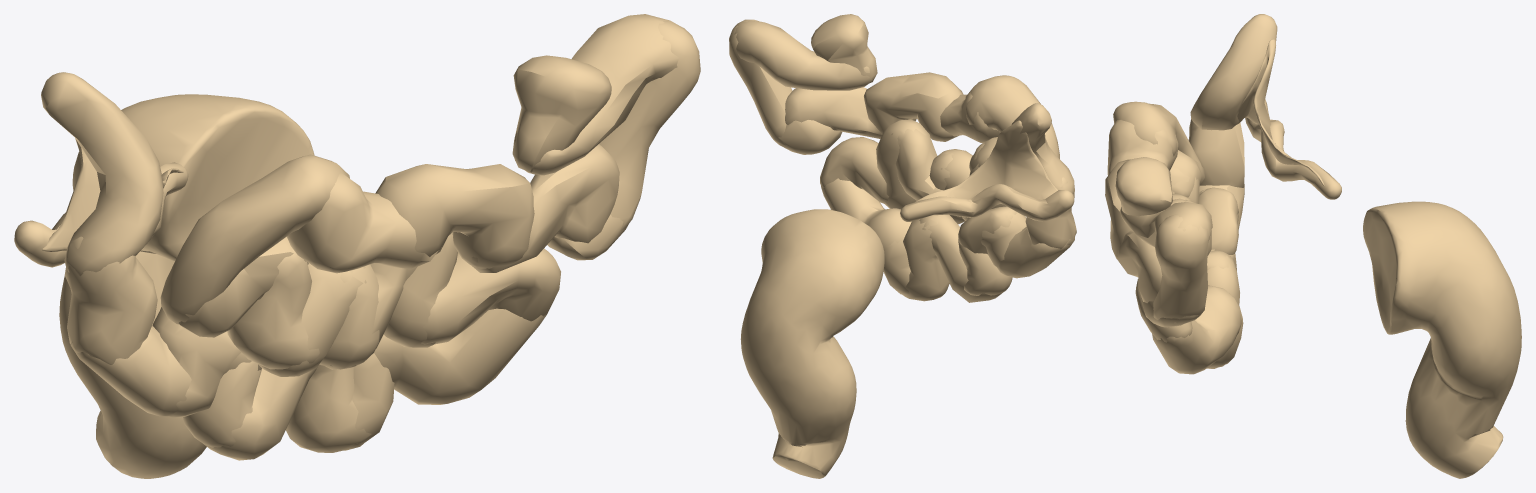
File: digestif-bassin.hi.glb
The picture shows the model from 3 angles, left to right: view 1: azimuth 30°, elevation 25°; view 2: azimuth 150°, elevation 25°; view 3: azimuth 270°, elevation 25°; orthographic projection. The views are drawn at different scales.
Visible parts, largest first — view 1: FJ2571, FJ2599, FJ2580, FJ2578, FJ2589, FJ2579, FJ2605, FJ2604, FJ2598, FJ2588, FJ2577, FJ2575 (+15 smaller); view 2: FJ2571, FJ2605, FJ2578, FJ3397, FJ2565, FJ2577, FJ2580, FJ2604, FJ2588, FJ2589, FJ2575, FJ2591 (+15 smaller); view 3: FJ2571, FJ2599, FJ2575, FJ2589, FJ2604, FJ2598, FJ2565, FJ2580, FJ2579, FJ3397, FJ2577, FJ2594 (+6 smaller).
Part boxes in pixels (bbox=[...]): FJ2571: bbox=[59, 94, 314, 478]; FJ2599: bbox=[41, 72, 163, 276]; FJ2580: bbox=[160, 154, 349, 324]; FJ2578: bbox=[375, 164, 534, 268]; FJ2589: bbox=[374, 308, 547, 404]; FJ2579: bbox=[287, 173, 438, 273]; FJ2605: bbox=[514, 14, 682, 175]; FJ2604: bbox=[512, 55, 611, 172]; FJ2598: bbox=[64, 236, 157, 364]; FJ2588: bbox=[421, 248, 560, 344]; FJ2577: bbox=[471, 144, 619, 272]; FJ2575: bbox=[599, 21, 700, 230]; FJ2571: bbox=[740, 209, 884, 478]; FJ2605: bbox=[734, 20, 872, 90]; FJ2578: bbox=[864, 72, 963, 141]; FJ3397: bbox=[915, 120, 1057, 201]; FJ2565: bbox=[900, 184, 1074, 221]; FJ2577: bbox=[785, 87, 881, 138]; FJ2580: bbox=[965, 75, 1059, 158]; FJ2604: bbox=[811, 14, 877, 83]; FJ2588: bbox=[820, 137, 888, 203]; FJ2589: bbox=[821, 178, 907, 245]; FJ2575: bbox=[729, 19, 792, 145]; FJ2591: bbox=[902, 214, 951, 301]; FJ2571: bbox=[1363, 201, 1521, 478]; FJ2599: bbox=[1190, 14, 1277, 130]; FJ2575: bbox=[1153, 214, 1208, 327]; FJ2589: bbox=[1152, 285, 1241, 374]; FJ2604: bbox=[1115, 157, 1172, 216]; FJ2598: bbox=[1188, 119, 1244, 187]; FJ2565: bbox=[1245, 99, 1341, 199]; FJ2580: bbox=[1113, 101, 1201, 165]; FJ2579: bbox=[1107, 120, 1178, 175]; FJ3397: bbox=[1237, 39, 1324, 186]; FJ2577: bbox=[1117, 230, 1162, 303]; FJ2594: bbox=[1198, 187, 1238, 254].
Bounding box in the file's own units: 0.1903 × 0.1659 × 0.1635.
